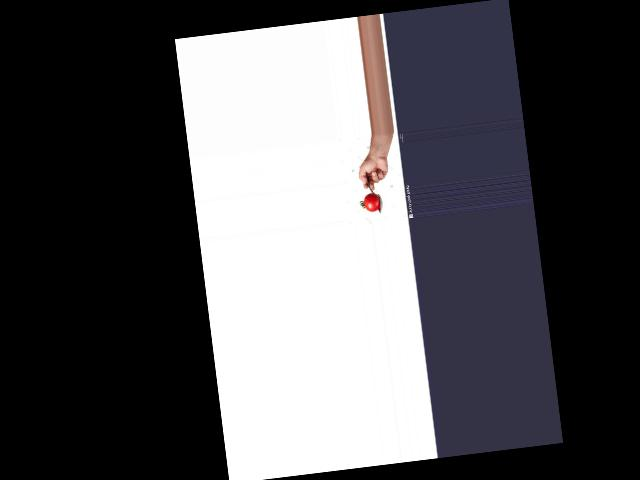tomato: (362, 191, 380, 212)
